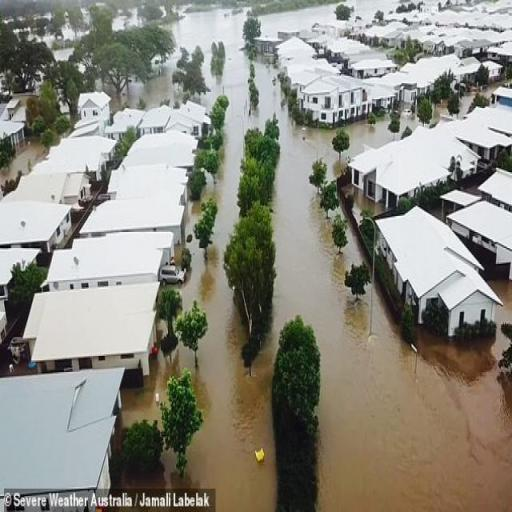flood: (121, 10, 512, 512), (257, 0, 418, 35), (120, 45, 183, 107), (0, 142, 41, 189), (351, 116, 393, 154)
house: (369, 187, 510, 334), (0, 365, 130, 512), (26, 284, 159, 376), (353, 126, 456, 216), (50, 232, 175, 292), (84, 196, 192, 236), (298, 72, 370, 130), (3, 202, 73, 258), (458, 106, 512, 168), (1, 97, 27, 161), (76, 89, 114, 128), (348, 54, 396, 80), (162, 108, 198, 137), (453, 57, 481, 88), (396, 84, 419, 114), (252, 32, 277, 58), (480, 60, 502, 85)
